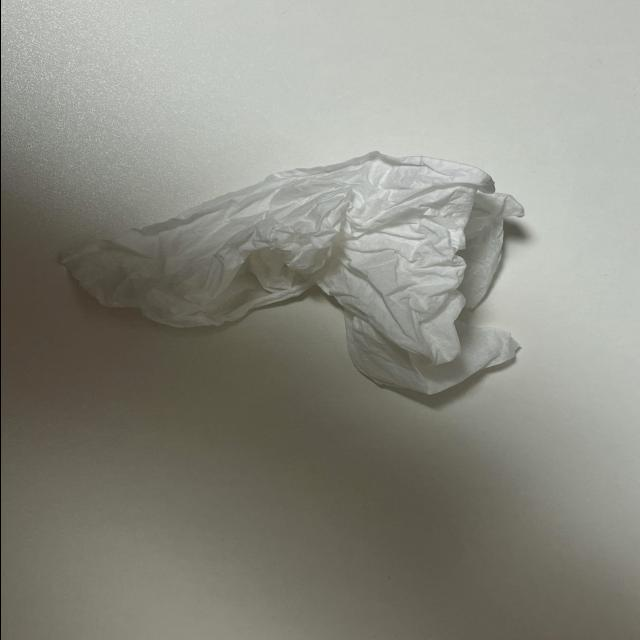Paper: (37, 152, 538, 398)
